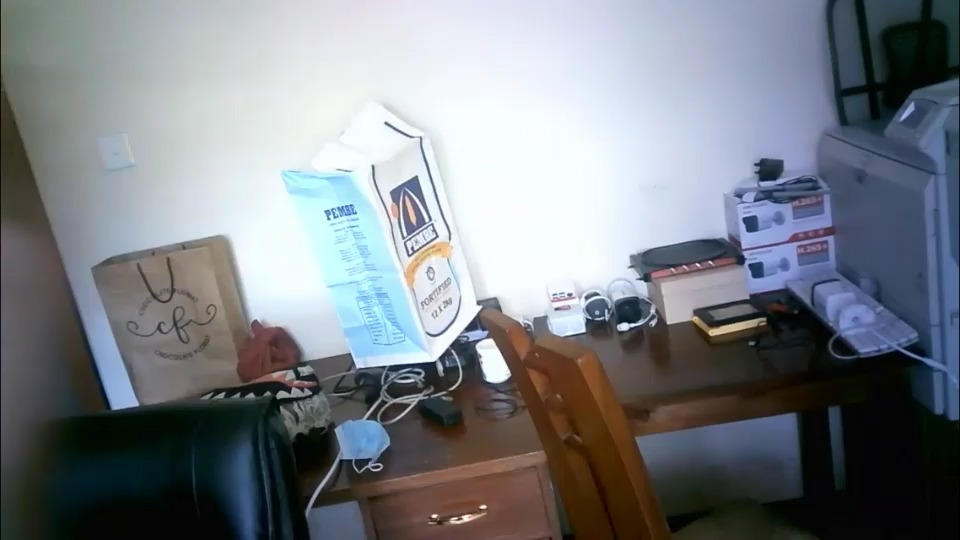wheat_flour_blue_label: (279, 100, 481, 367)
